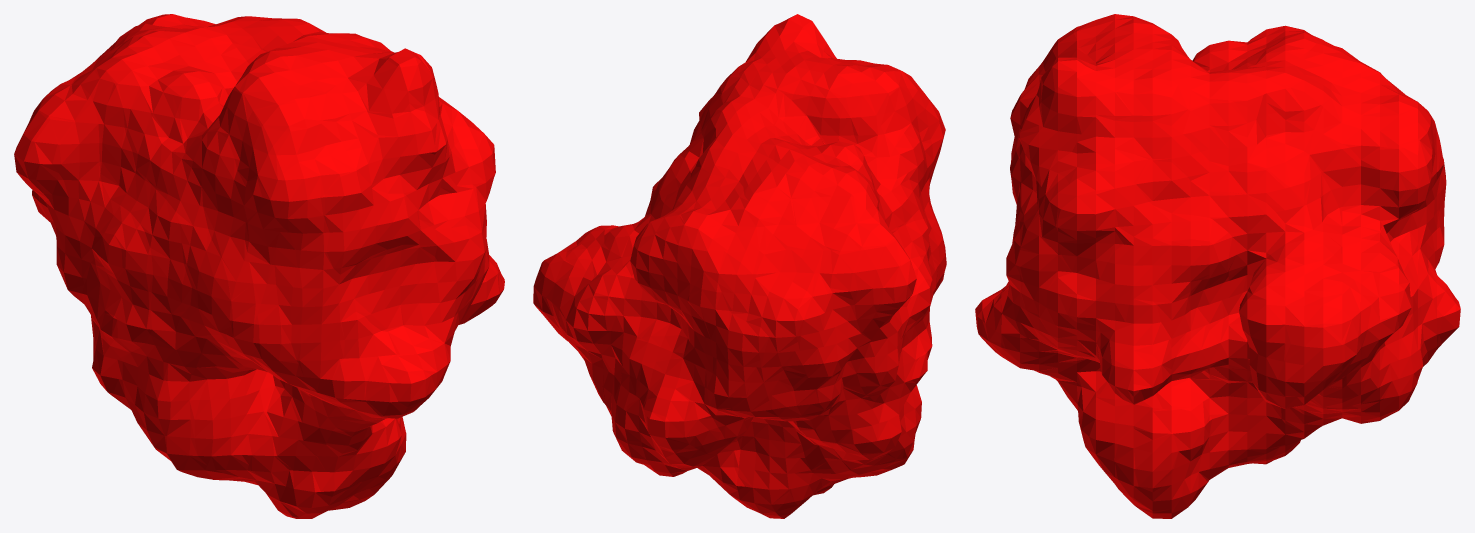
Rendered from purL_coarse.dae.
3 renders of one model, left to right at view 1: azimuth 30°, elevation 25°; view 2: azimuth 150°, elevation 25°; view 3: azimuth 270°, elevation 25°, orthographic. The views are drawn at different scales.
Parts seen in each view (by area): view 1: purL; view 2: purL; view 3: purL.
Boxes of the visible parts, x1,y1,x2,y2 form: purL: (14,14,504,518); purL: (533,14,946,518); purL: (975,14,1460,518).
Size of the model in its own units: 83.66 by 93.97 by 89.48.
